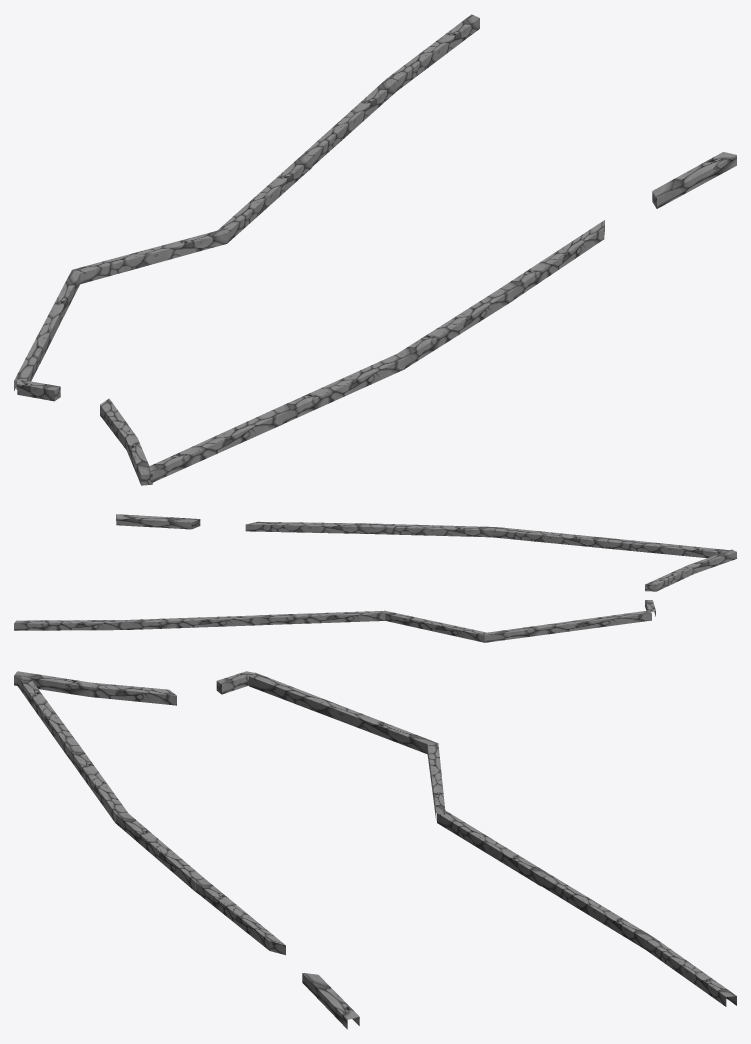
File: tuong 11 (1).fbx
3 views of the same model, one above another, from view 1: azimuth 30°, elevation 25°; view 2: azimuth 150°, elevation 25°; view 3: azimuth 270°, elevation 25° (orthographic). The views are drawn at different scales.
Parts seen in each view (by area): view 1: polySurface6, polySurface8, polySurface12, polySurface7; view 2: polySurface6, polySurface8, polySurface7, polySurface12; view 3: polySurface6, polySurface8, polySurface7, polySurface12.
Boxes of the visible parts, box(x1,y1,x2,y2) form: polySurface6: box(14, 14, 479, 401); polySurface8: box(142, 220, 604, 482); polySurface12: box(652, 152, 736, 208); polySurface7: box(100, 398, 152, 485); polySurface6: box(14, 600, 655, 642); polySurface8: box(245, 521, 731, 558); polySurface7: box(645, 549, 736, 591); polySurface12: box(116, 514, 200, 529); polySurface6: box(216, 671, 736, 1006); polySurface8: box(17, 673, 285, 955); polySurface7: box(14, 671, 176, 705); polySurface12: box(302, 973, 359, 1029).
Size of the model in its own units: 16.48 by 0.2323 by 14.44.
1 material, 1 textured.
